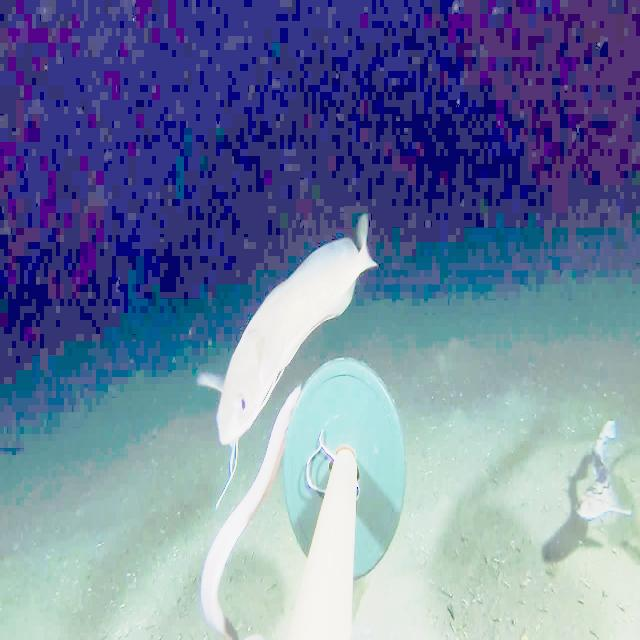eel: (180, 360, 309, 639)
fish: (180, 191, 396, 476), (572, 418, 638, 554)
pole: (277, 356, 407, 639)
